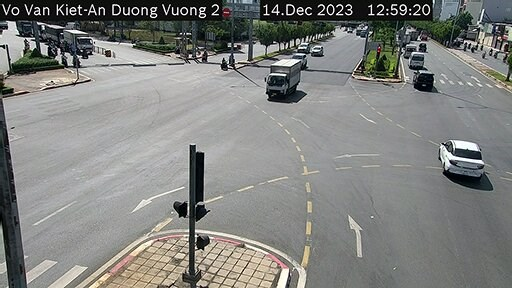car: (436, 140, 482, 175), (414, 67, 437, 89), (408, 51, 425, 68), (310, 41, 322, 55)
truck: (265, 59, 297, 100), (61, 29, 92, 58), (39, 23, 69, 49)
